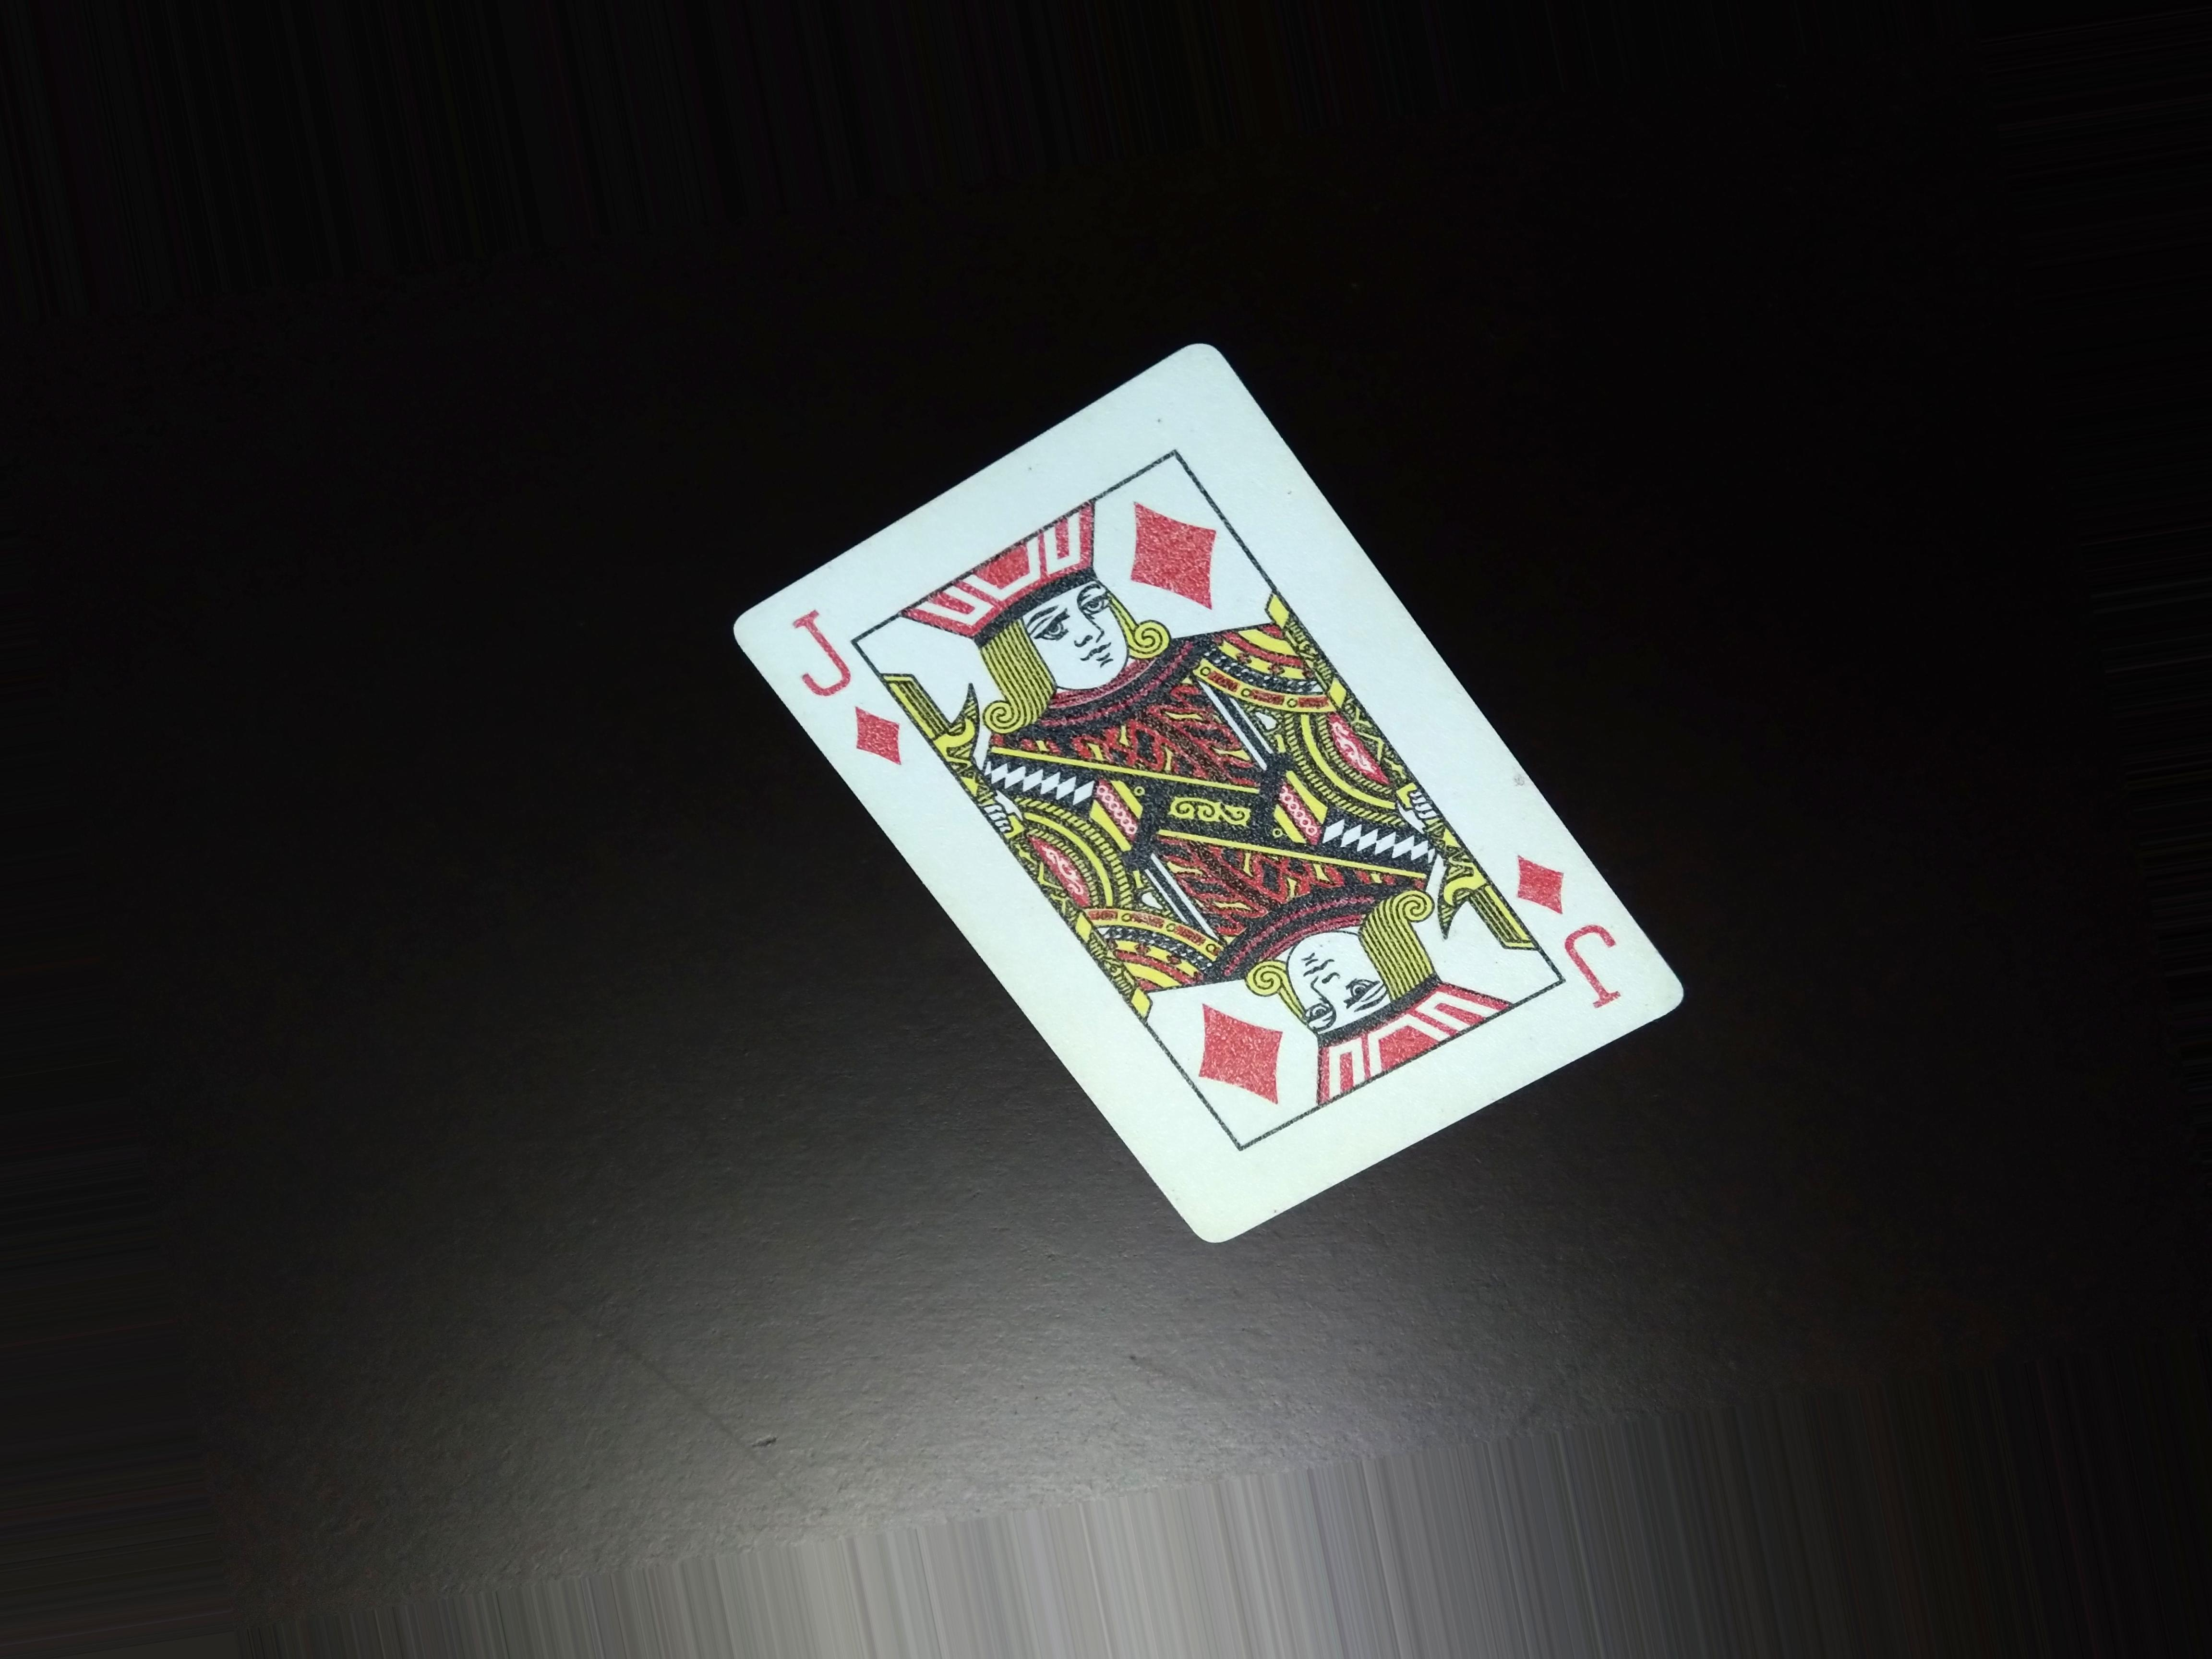JD: (786, 591, 904, 774)
